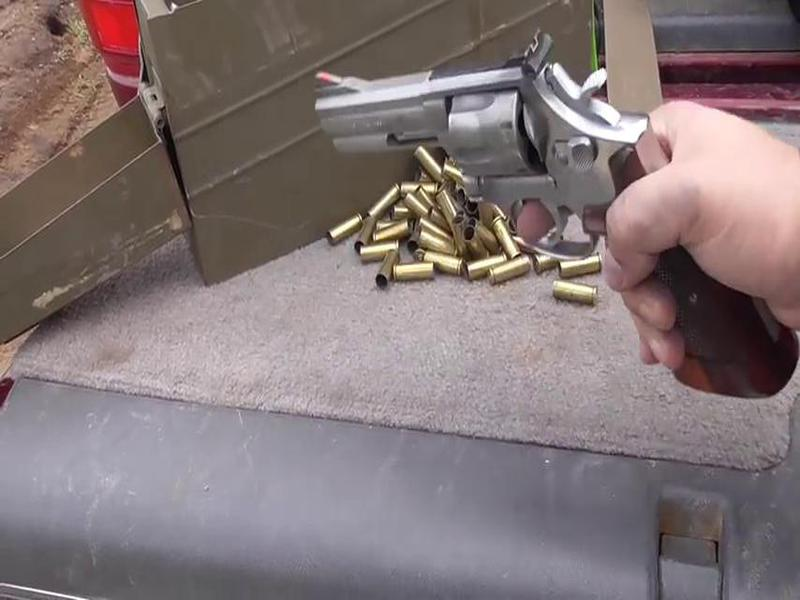Revolver: (286, 22, 800, 426)
